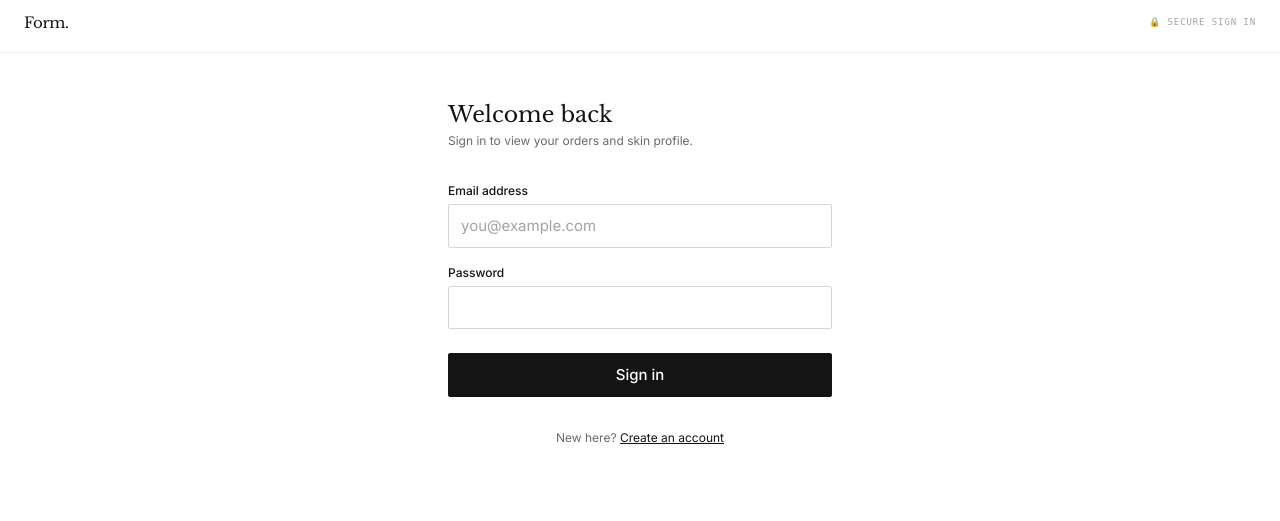
Scenario: LoginPage › shows an error alert when auth fails
Type "buyer@example.com" into the field with test id "input-email" at (640, 226), box [448,204,832,248]
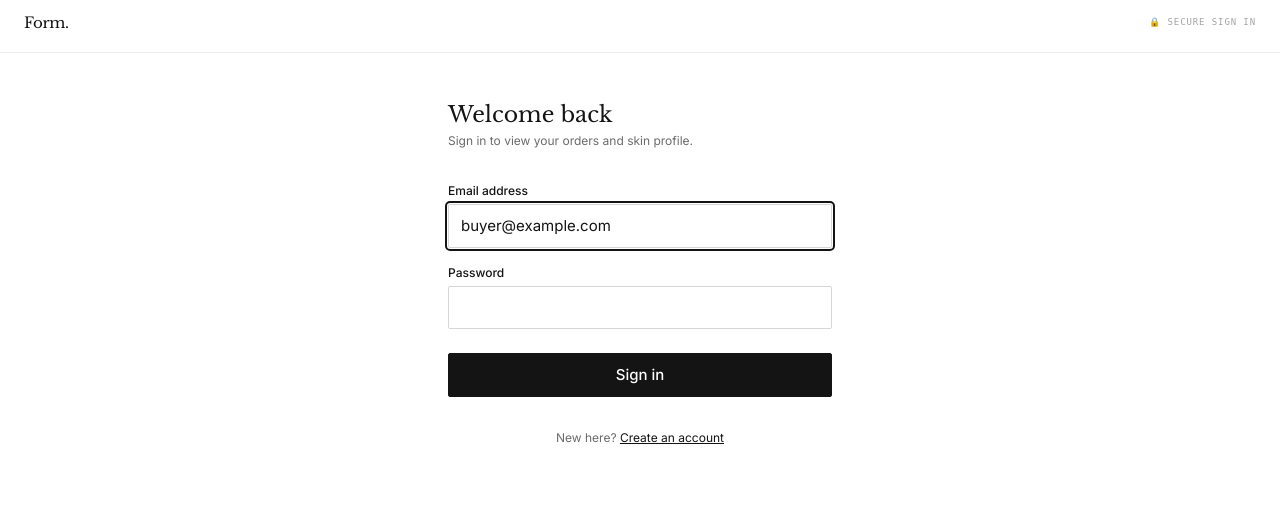
Type "hunter22" into the password field with test id "input-password" at (640, 307), box [448,286,832,329]
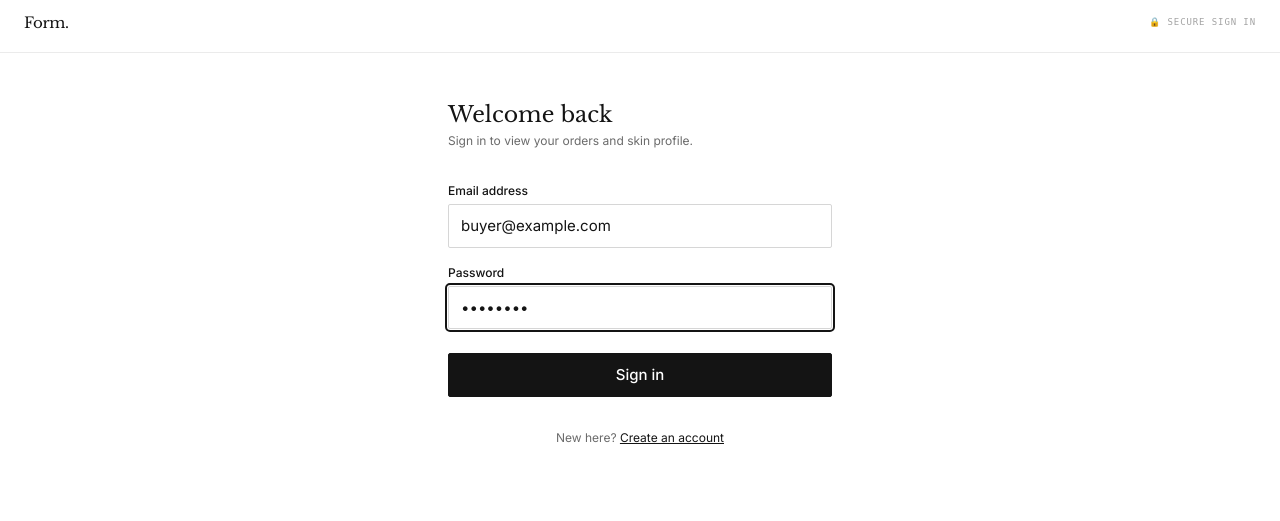
Click the button with test id "login-submit" at (640, 375), box [448,353,832,396]
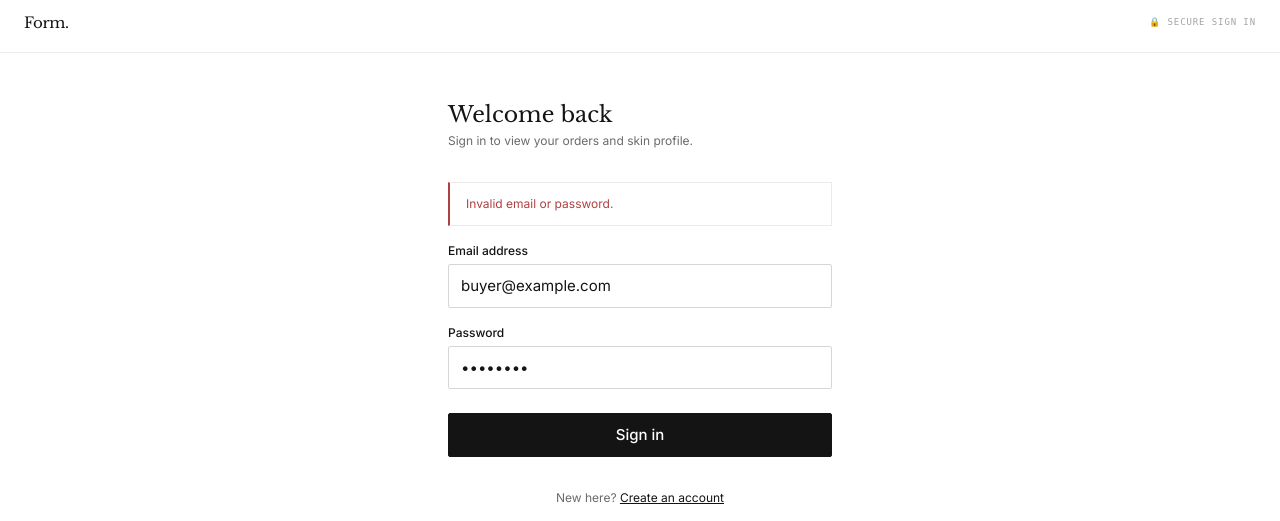
Expected: the element with test id "login-api-error" is shown, [448,182,832,226]
